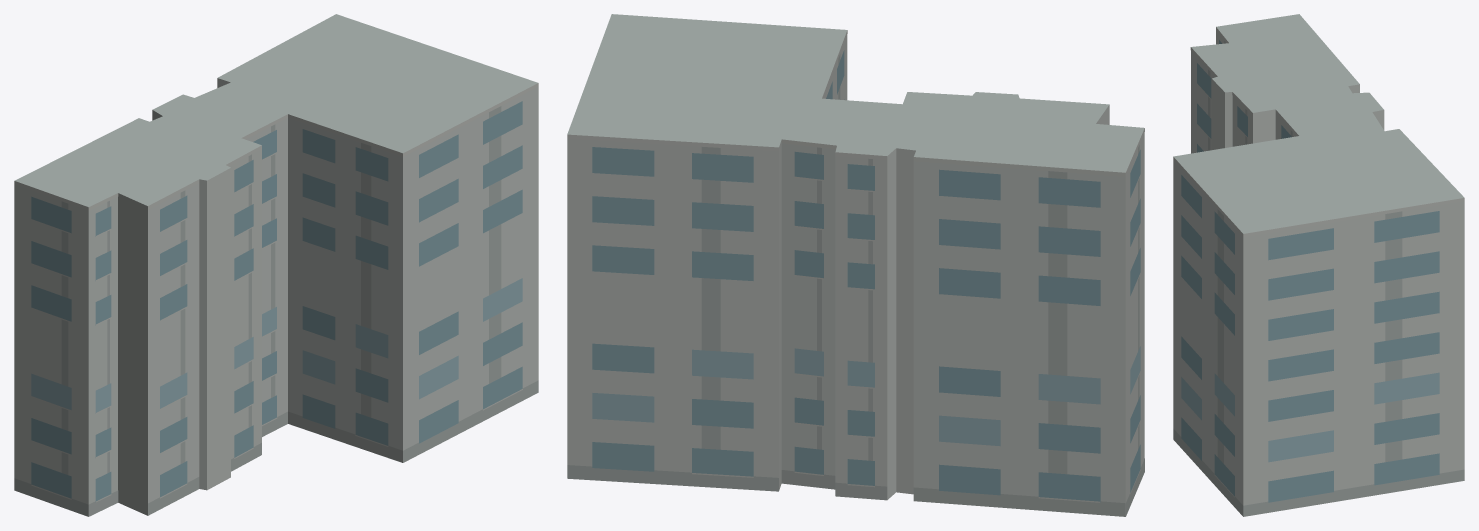
File: survey-upis-32847154.glb
3 renders of one model, left to right at view 1: azimuth 30°, elevation 25°; view 2: azimuth 150°, elevation 25°; view 3: azimuth 270°, elevation 25°, orthographic. The views are drawn at different scales.
Visible parts, largest first — view 1: survey-upis-32847154.tmp; view 2: survey-upis-32847154.tmp; view 3: survey-upis-32847154.tmp.
Part boxes in pixels (box(x1,y1,x2,y2)): survey-upis-32847154.tmp: box(14, 14, 538, 516); survey-upis-32847154.tmp: box(567, 14, 1144, 516); survey-upis-32847154.tmp: box(1173, 14, 1464, 516).
Size of the model in its own units: 34.43 by 20.65 by 19.29.
